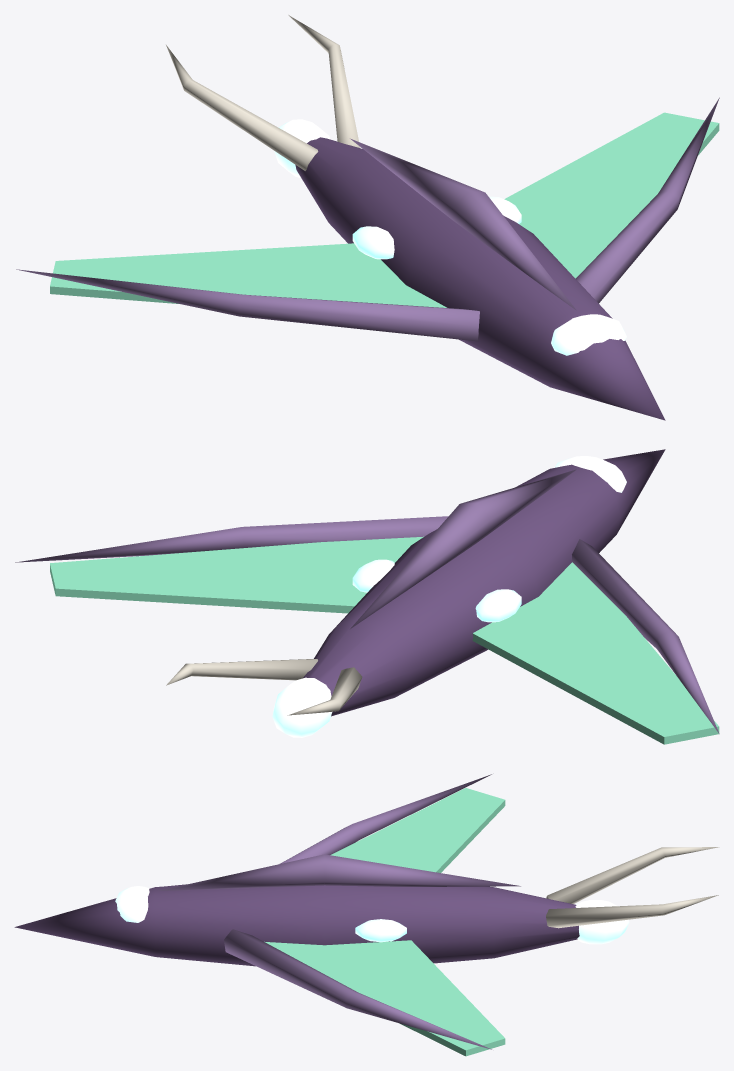
File: a_space_fighter.glb
3 renders of one model, top to bottom at view 1: azimuth 30°, elevation 25°; view 2: azimuth 150°, elevation 25°; view 3: azimuth 270°, elevation 25°, orthographic. The views are drawn at different scales.
Parts seen in each view (by area): view 1: body, wings, glow; view 2: body, wings, glow; view 3: body, wings, glow.
Boxes of the visible parts, x1,y1,x2,y2 form: body: (16, 15, 719, 420); wings: (50, 112, 719, 307); glow: (274, 119, 626, 355); body: (15, 449, 719, 733); wings: (50, 536, 719, 744); glow: (272, 456, 626, 737); body: (14, 774, 719, 1049); wings: (264, 788, 505, 1056); glow: (115, 886, 629, 944).
Size of what is drawn, in the model's own units: 1.16 by 0.2085 by 1.25.
